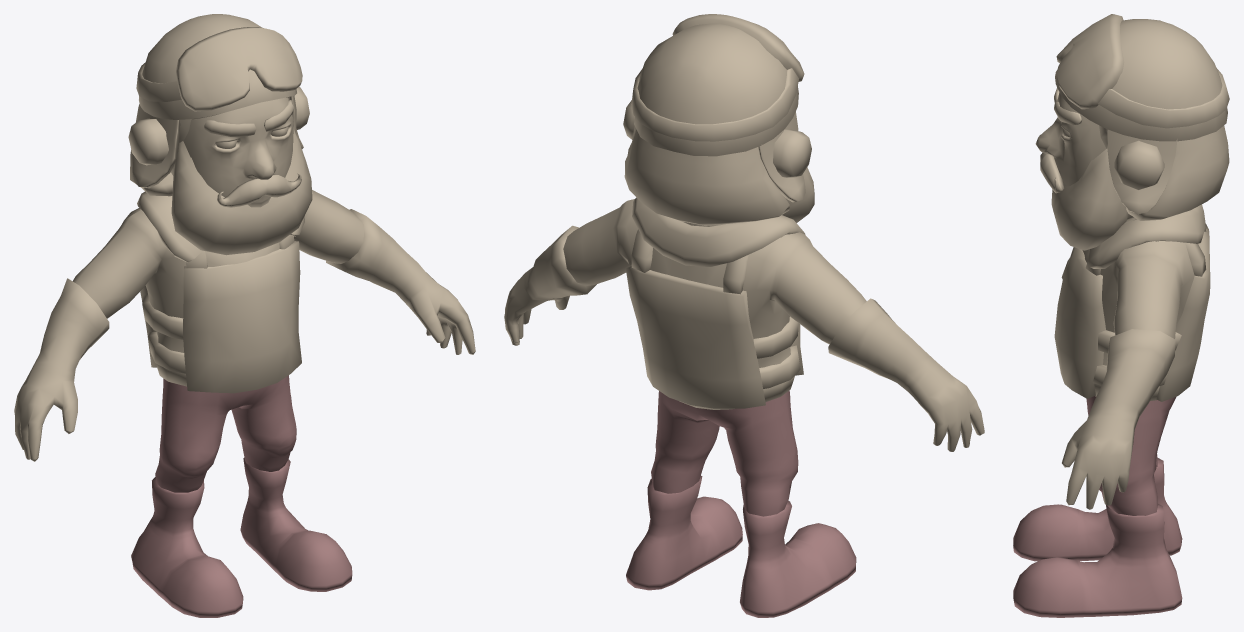
The model's file is a3d_pilot_whole_01.fbx.
3 renders of one model, left to right at view 1: azimuth 30°, elevation 25°; view 2: azimuth 150°, elevation 25°; view 3: azimuth 270°, elevation 25°, orthographic. The views are drawn at different scales.
Visible parts, largest first — view 1: Body_low, LowerBody_low, Hat_low, Hair_low; view 2: Body_low, LowerBody_low, Hat_low, Hair_low; view 3: Body_low, LowerBody_low, Hat_low, Hair_low.
Boxes of the visible parts, box(x1,y1,x2,y2) form: Body_low: box(14, 97, 475, 461); LowerBody_low: box(131, 375, 352, 617); Hat_low: box(128, 14, 309, 188); Hair_low: box(130, 97, 312, 255); Body_low: box(504, 197, 984, 451); LowerBody_low: box(626, 390, 856, 617); Hat_low: box(623, 14, 811, 202); Hair_low: box(624, 129, 814, 225); Body_low: box(1035, 92, 1210, 509); LowerBody_low: box(1013, 396, 1182, 617); Hat_low: box(1055, 14, 1229, 214); Hair_low: box(1040, 87, 1229, 250).
Bounding box in the file's own units: 1.12 × 1.29 × 0.4595.
